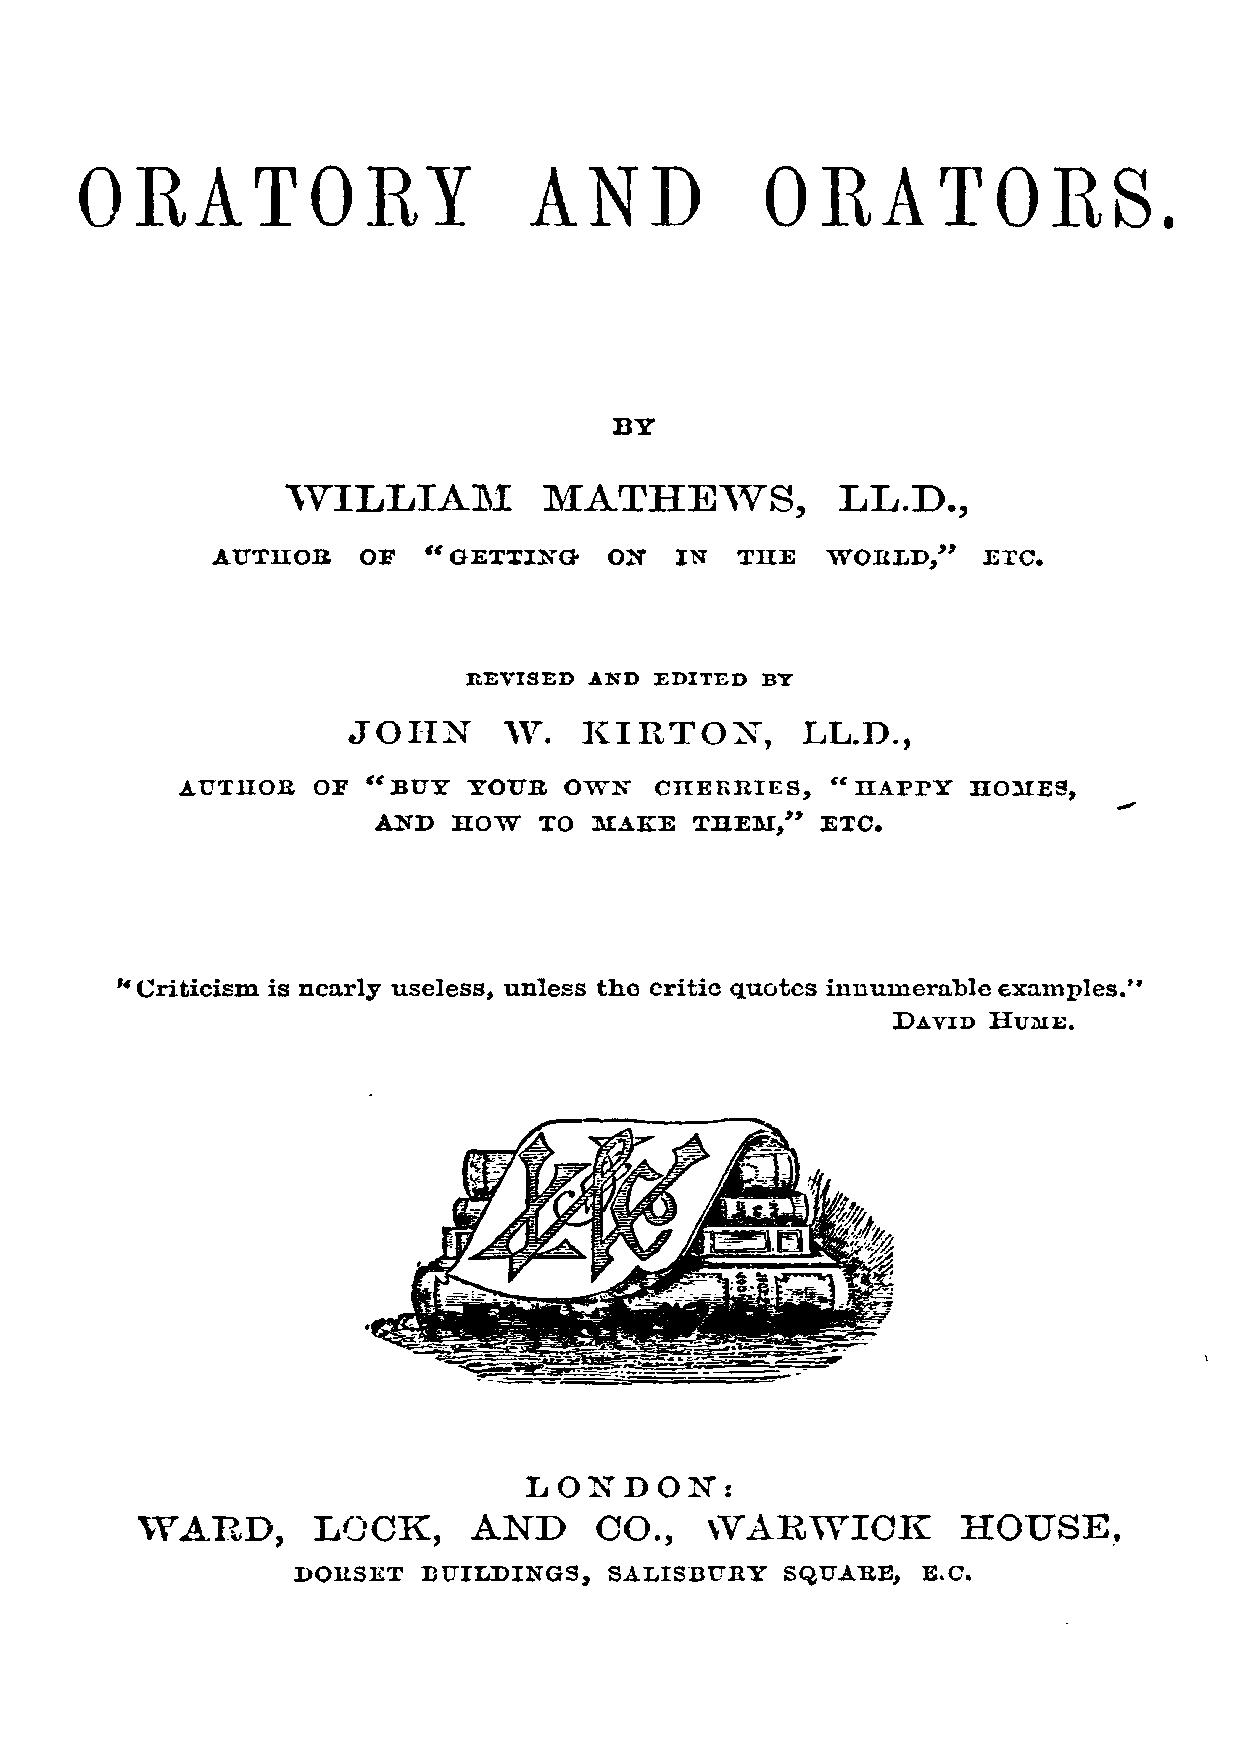author: (282, 416, 968, 518)
title: (75, 161, 1154, 229)
